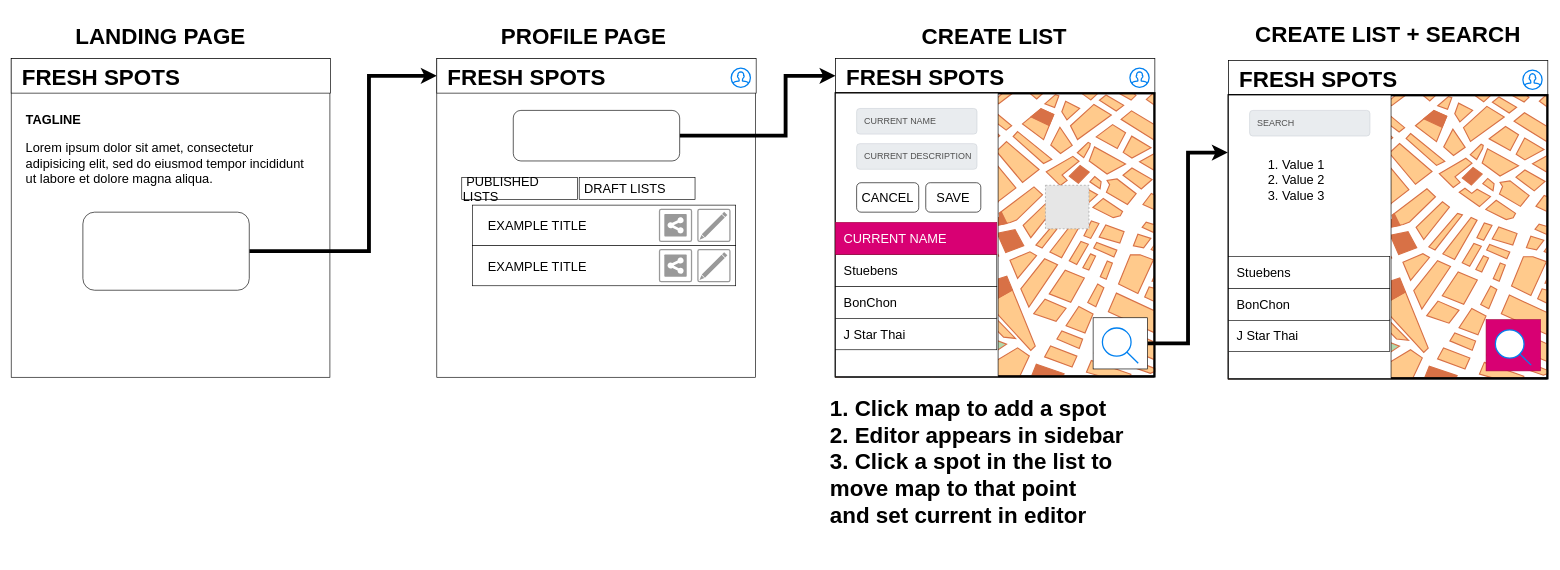
Some shapes in this 1560 by 570 pixel diagram are drawn without their labels. Grey dashed boxes stand in for pictures. Here are the shapes that lost their labels. From the top down, the centre of each, then its label:
point 596,135: CREATE A LIST
point 165,251: LOGIN WITH DISCORD
